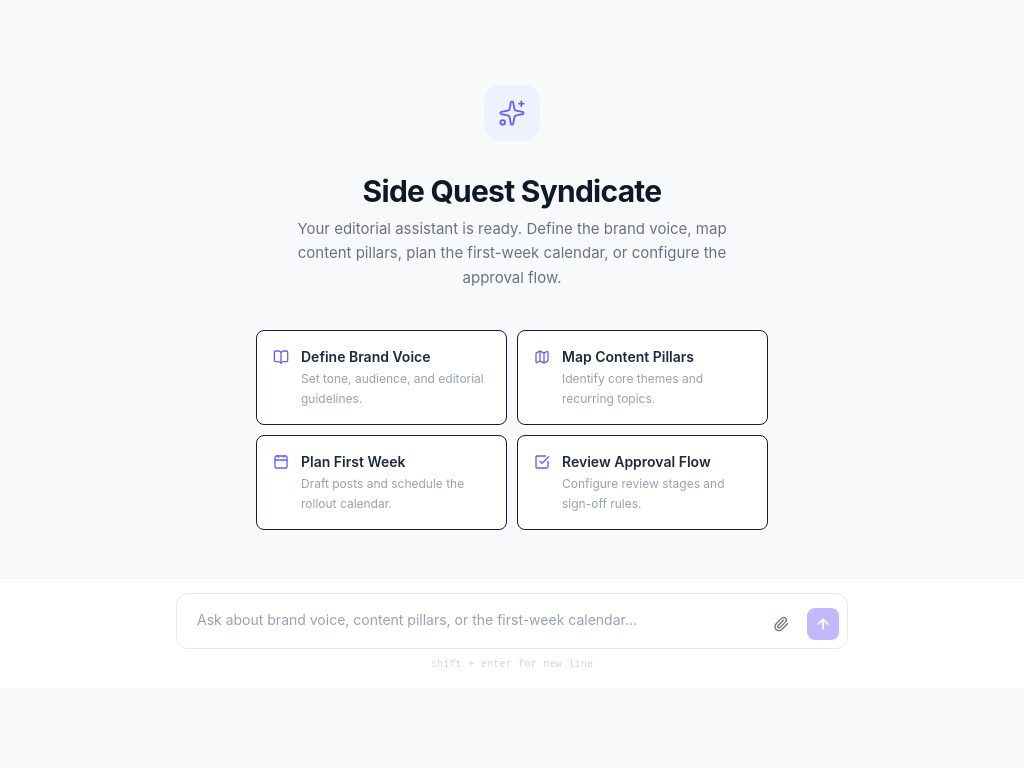
Test case: Homepage Chat UI › submits an empty-state suggested prompt
Step 1. Click the button "Define Brand Voice" → click(382, 378), box [256,330,507,425]
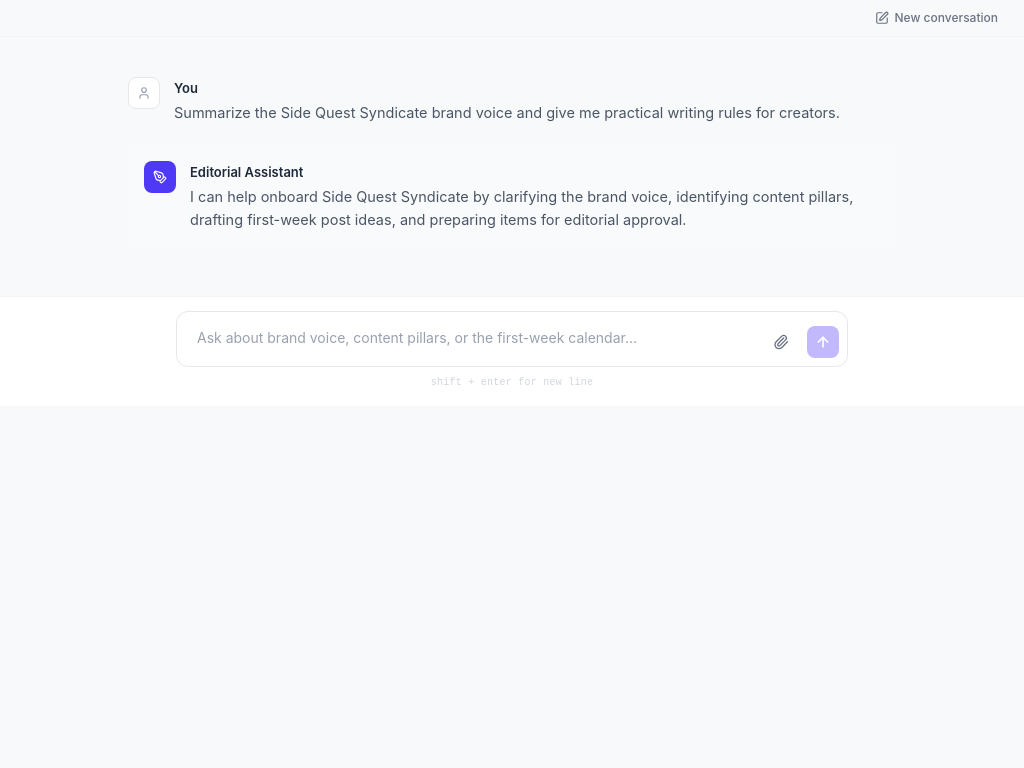
Now the text "Summarize the Side Quest Syndicate brand voice" is shown, box [174,104,840,120]
